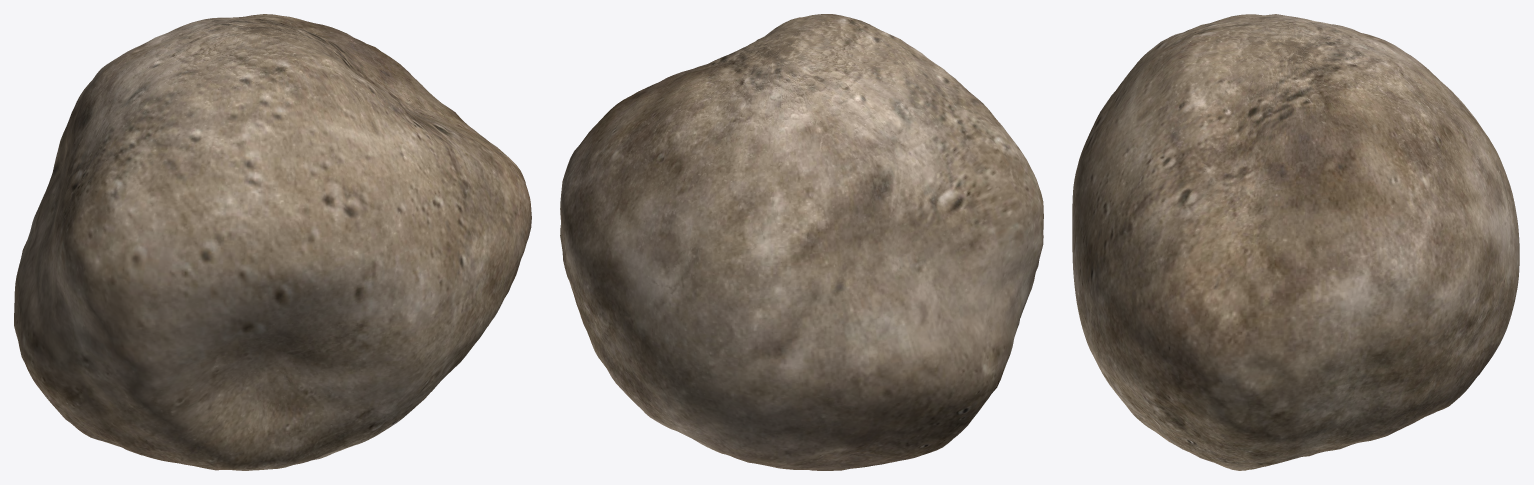
Rendered from juno.glb.
3 renders of one model, left to right at view 1: azimuth 30°, elevation 25°; view 2: azimuth 150°, elevation 25°; view 3: azimuth 270°, elevation 25°, orthographic. The views are drawn at different scales.
Parts seen in each view (by area): view 1: juno; view 2: juno; view 3: juno.
Part boxes in pixels (x1,y1,x2,y2): juno: (14,14,531,470); juno: (560,14,1043,470); juno: (1072,14,1519,470).
Size of the model in its own units: 268 by 233 by 231.
1 material, 1 textured.
